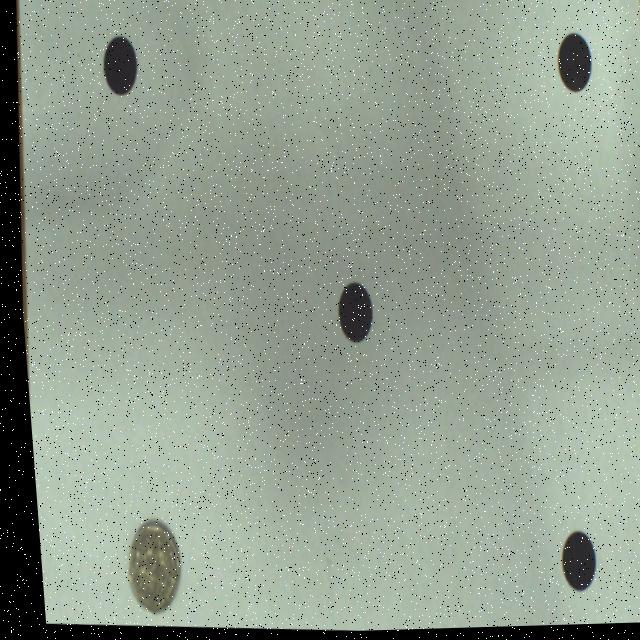space: (552, 535, 587, 595), (556, 37, 590, 96), (334, 285, 367, 344), (103, 39, 135, 96)
tail5bath: (120, 523, 171, 612)
